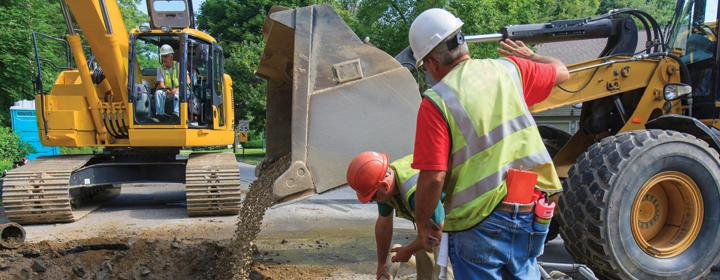helmet: (410, 8, 468, 56), (348, 151, 392, 203), (161, 44, 176, 61)
